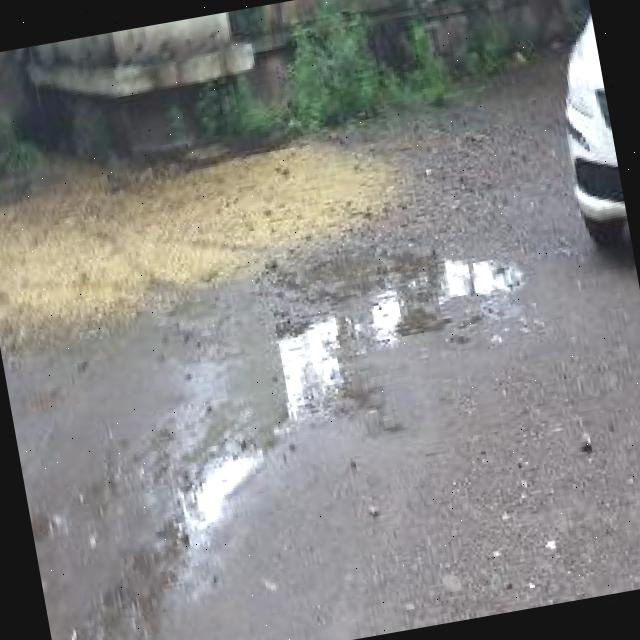stagnation: (129, 246, 526, 562)
